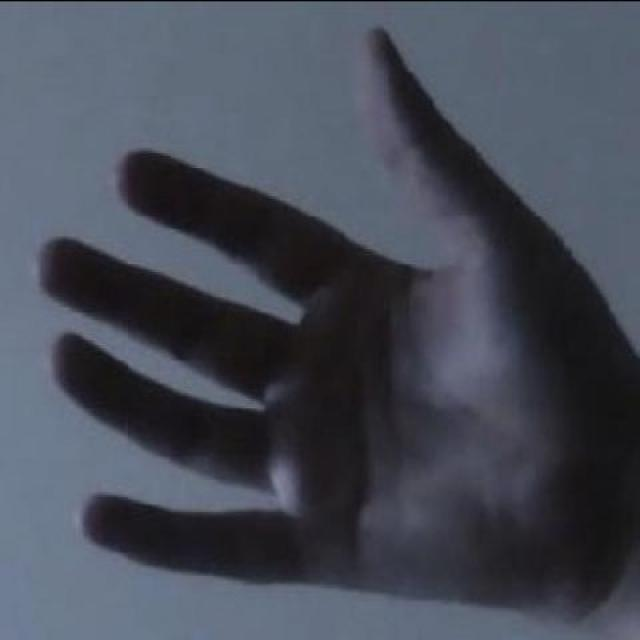Open Hand: (2, 20, 640, 620)
